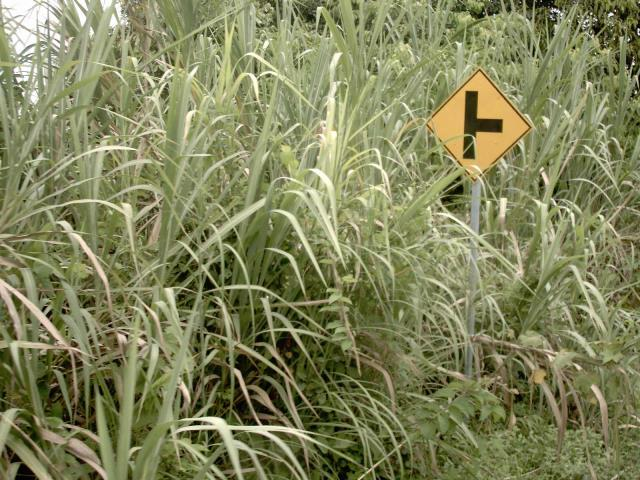traffic_sign: (418, 56, 535, 190)
